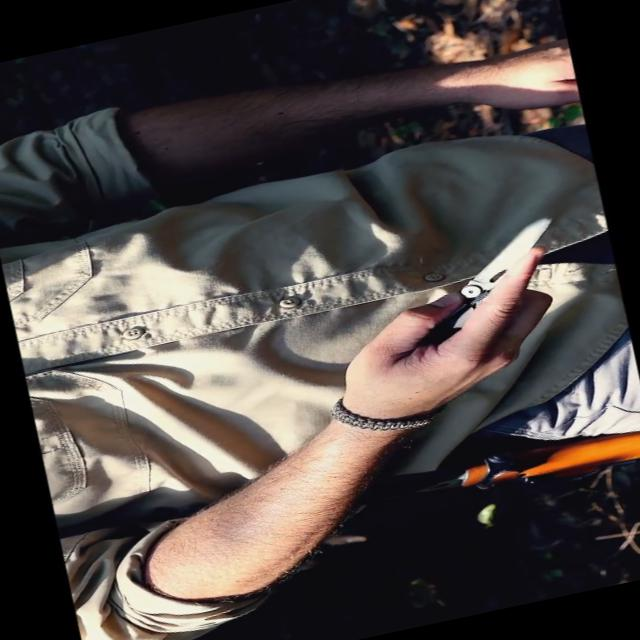knife: (400, 207, 594, 390)
